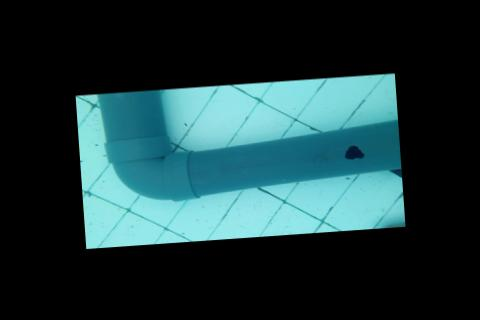kebocoran: (341, 142, 366, 160)
